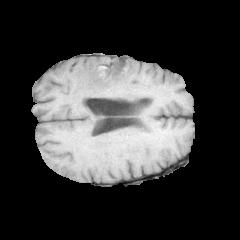glioma: (72, 58, 147, 101)
